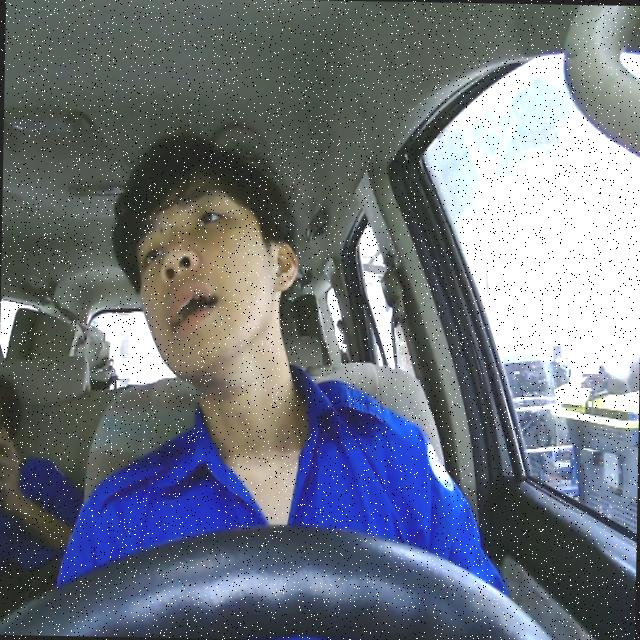yarning: (128, 162, 299, 376)
